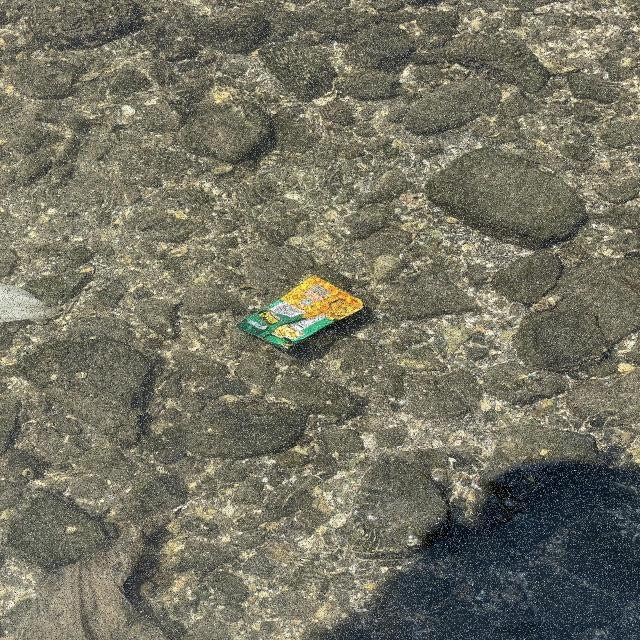plastic_waste: (234, 275, 366, 352)
